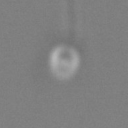normal: (51, 1, 84, 42)
